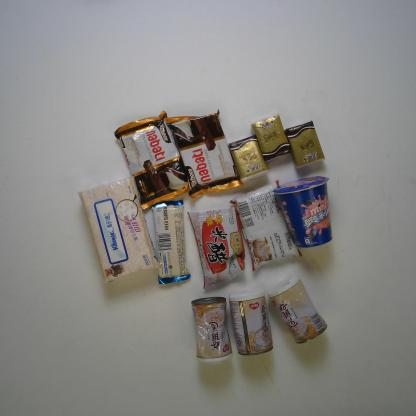Canned Food: (266, 275, 330, 346), (228, 288, 278, 360), (188, 294, 234, 364)
Chocolate: (144, 194, 191, 286)
Dessert: (159, 109, 241, 200), (115, 114, 190, 212), (272, 174, 336, 252)
Seasoner: (229, 182, 306, 274), (184, 204, 246, 290)
Tissue: (76, 174, 158, 284), (249, 111, 296, 163), (286, 118, 326, 171), (229, 135, 269, 182)
